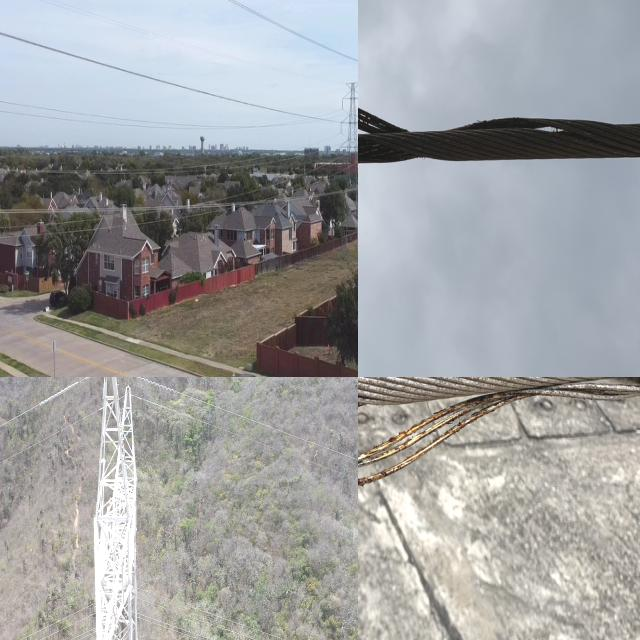杆塔: (74, 377, 170, 640), (337, 77, 358, 260)
正常绝缘子: (340, 96, 344, 114), (339, 120, 343, 136)
电缆破损: (358, 377, 608, 490), (358, 80, 616, 172)
